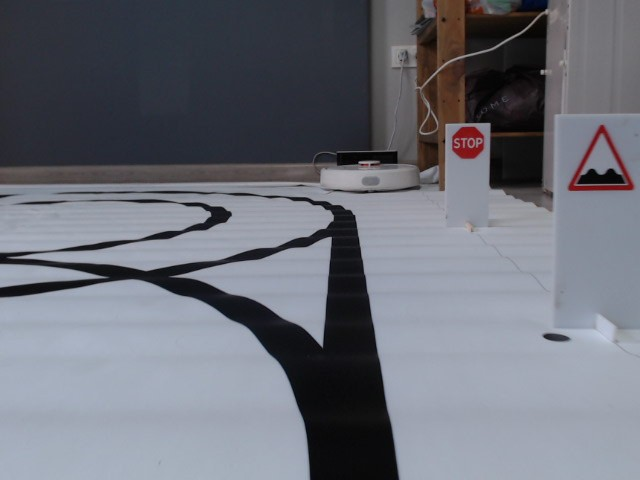Nerov: (567, 118, 640, 202)
Stop: (451, 125, 485, 158)
